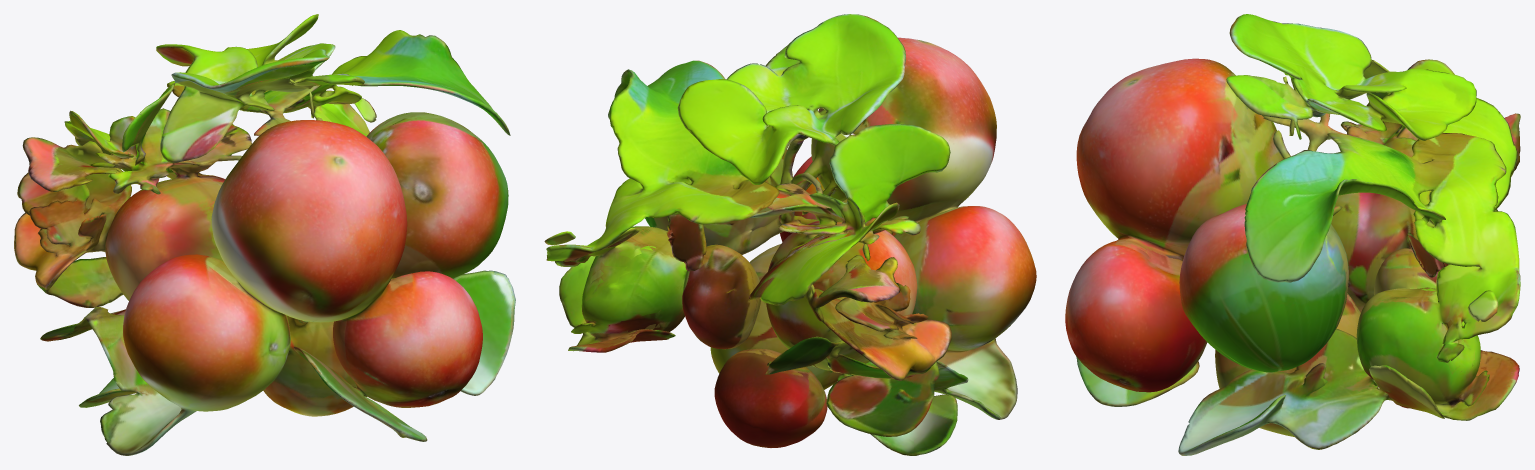
The model's file is tree0091.gltf.
The picture shows the model from 3 angles, left to right: view 1: azimuth 30°, elevation 25°; view 2: azimuth 150°, elevation 25°; view 3: azimuth 270°, elevation 25°; orthographic projection. The views are drawn at different scales.
Parts seen in each view (by area): view 1: Mesh_0.065; view 2: Mesh_0.065; view 3: Mesh_0.065.
Part boxes in pixels (<box>): Mesh_0.065: <box>14,14,515,455</box>; Mesh_0.065: <box>544,14,1036,455</box>; Mesh_0.065: <box>1065,14,1520,455</box>.
Size of the model in its own units: 1.99 by 1.82 by 1.96.
Materials: 1 (1 with a texture image).
